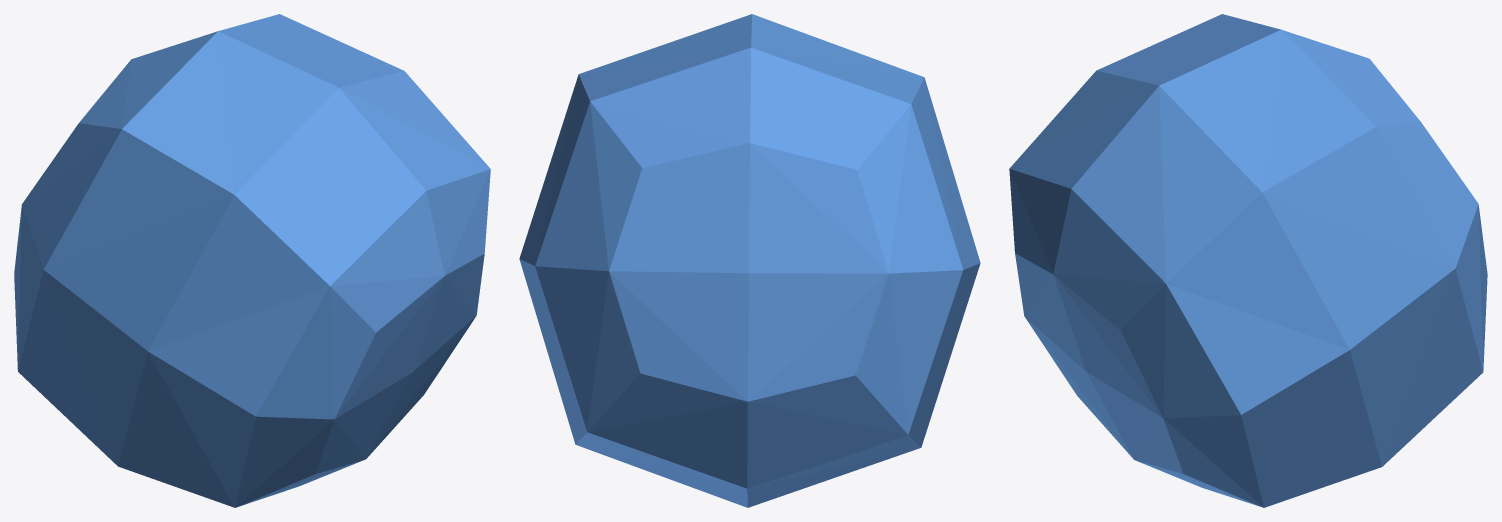
File: Simple_cell.fbx
3 renders of one model, left to right at view 1: azimuth 30°, elevation 25°; view 2: azimuth 150°, elevation 25°; view 3: azimuth 270°, elevation 25°, orthographic. The views are drawn at different scales.
Visible parts, largest first — view 1: Simple_cell; view 2: Simple_cell; view 3: Simple_cell.
Boxes of the visible parts, <box> form: Simple_cell: <box>14,14,490,507</box>; Simple_cell: <box>519,14,980,507</box>; Simple_cell: <box>1009,14,1487,507</box>.
Size of the model in its own units: 334 by 330 by 327.
